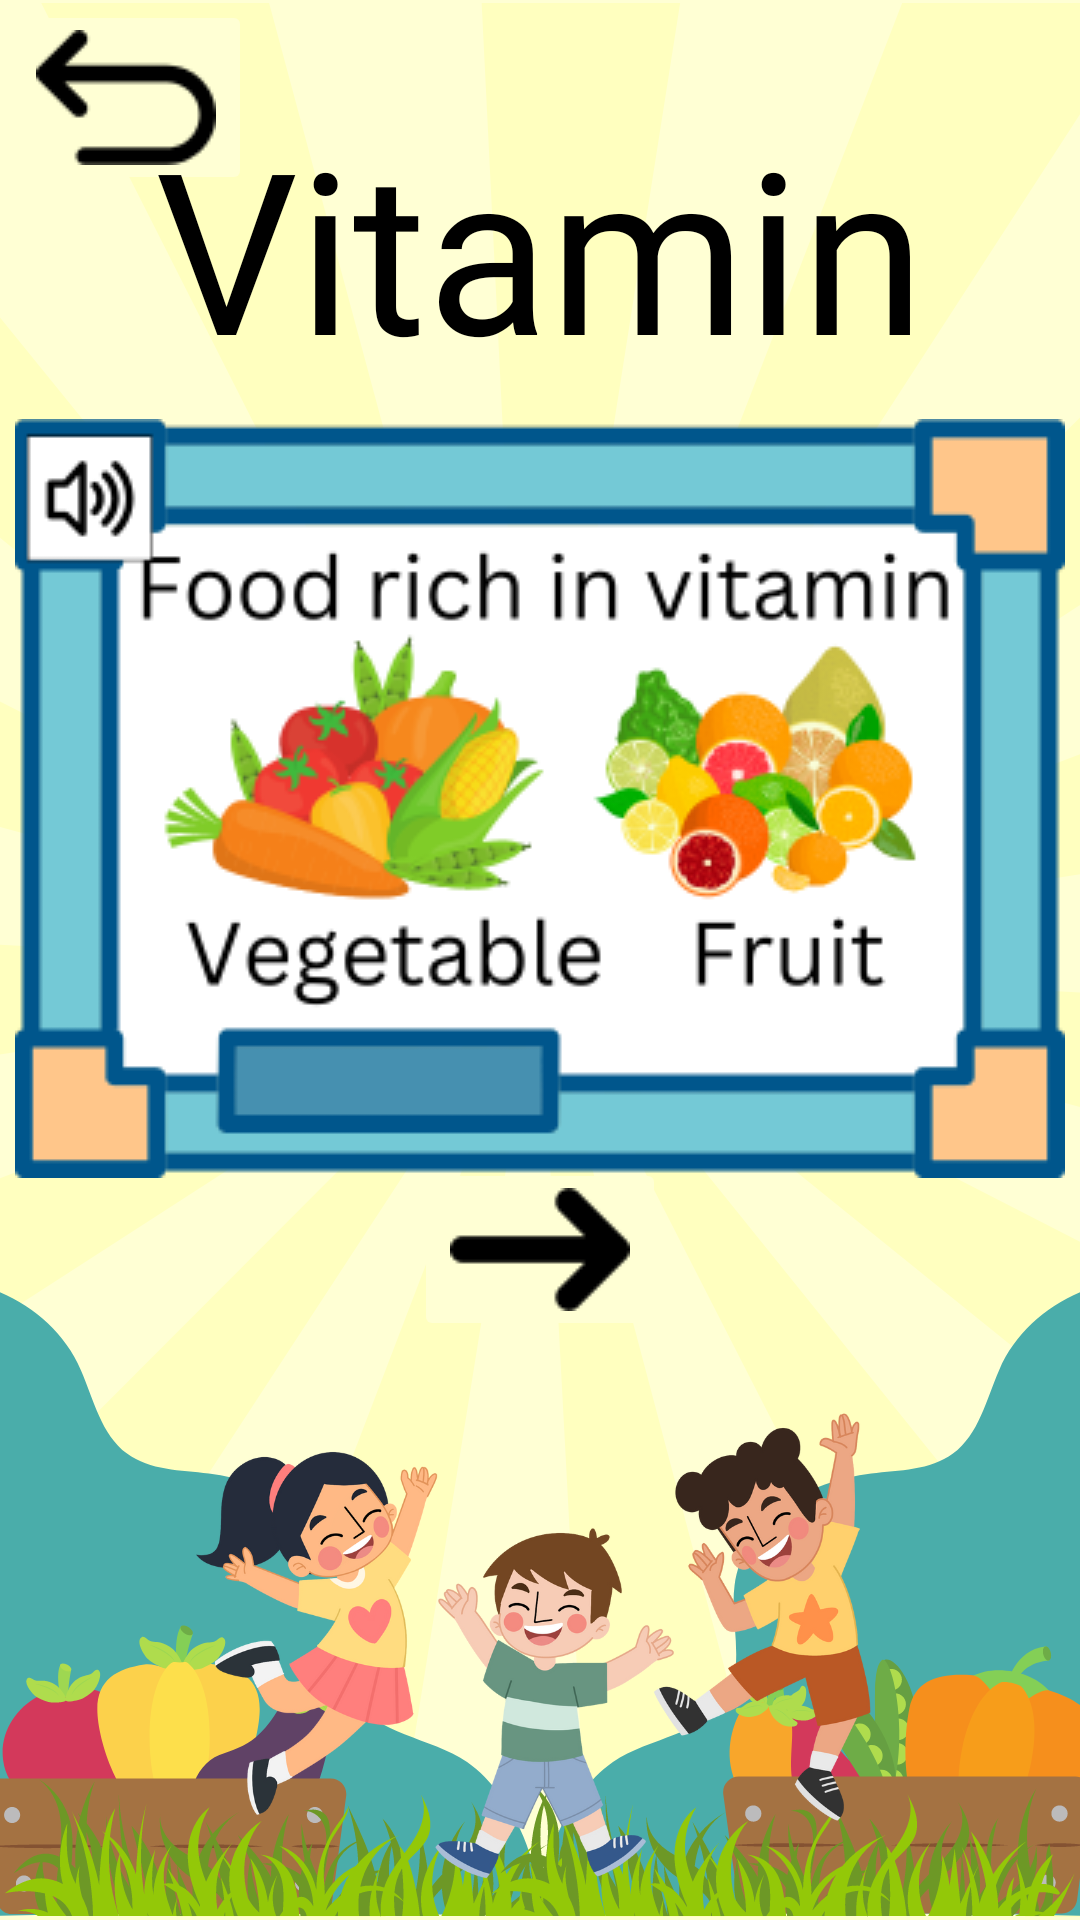

Screen size 1080x1920. Icon name, then its center in pixels as (x,y):
Back: (126,97)
Next button: (540,1249)
